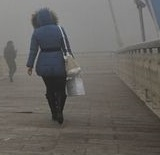person: (26, 7, 86, 125), (3, 39, 20, 83)
